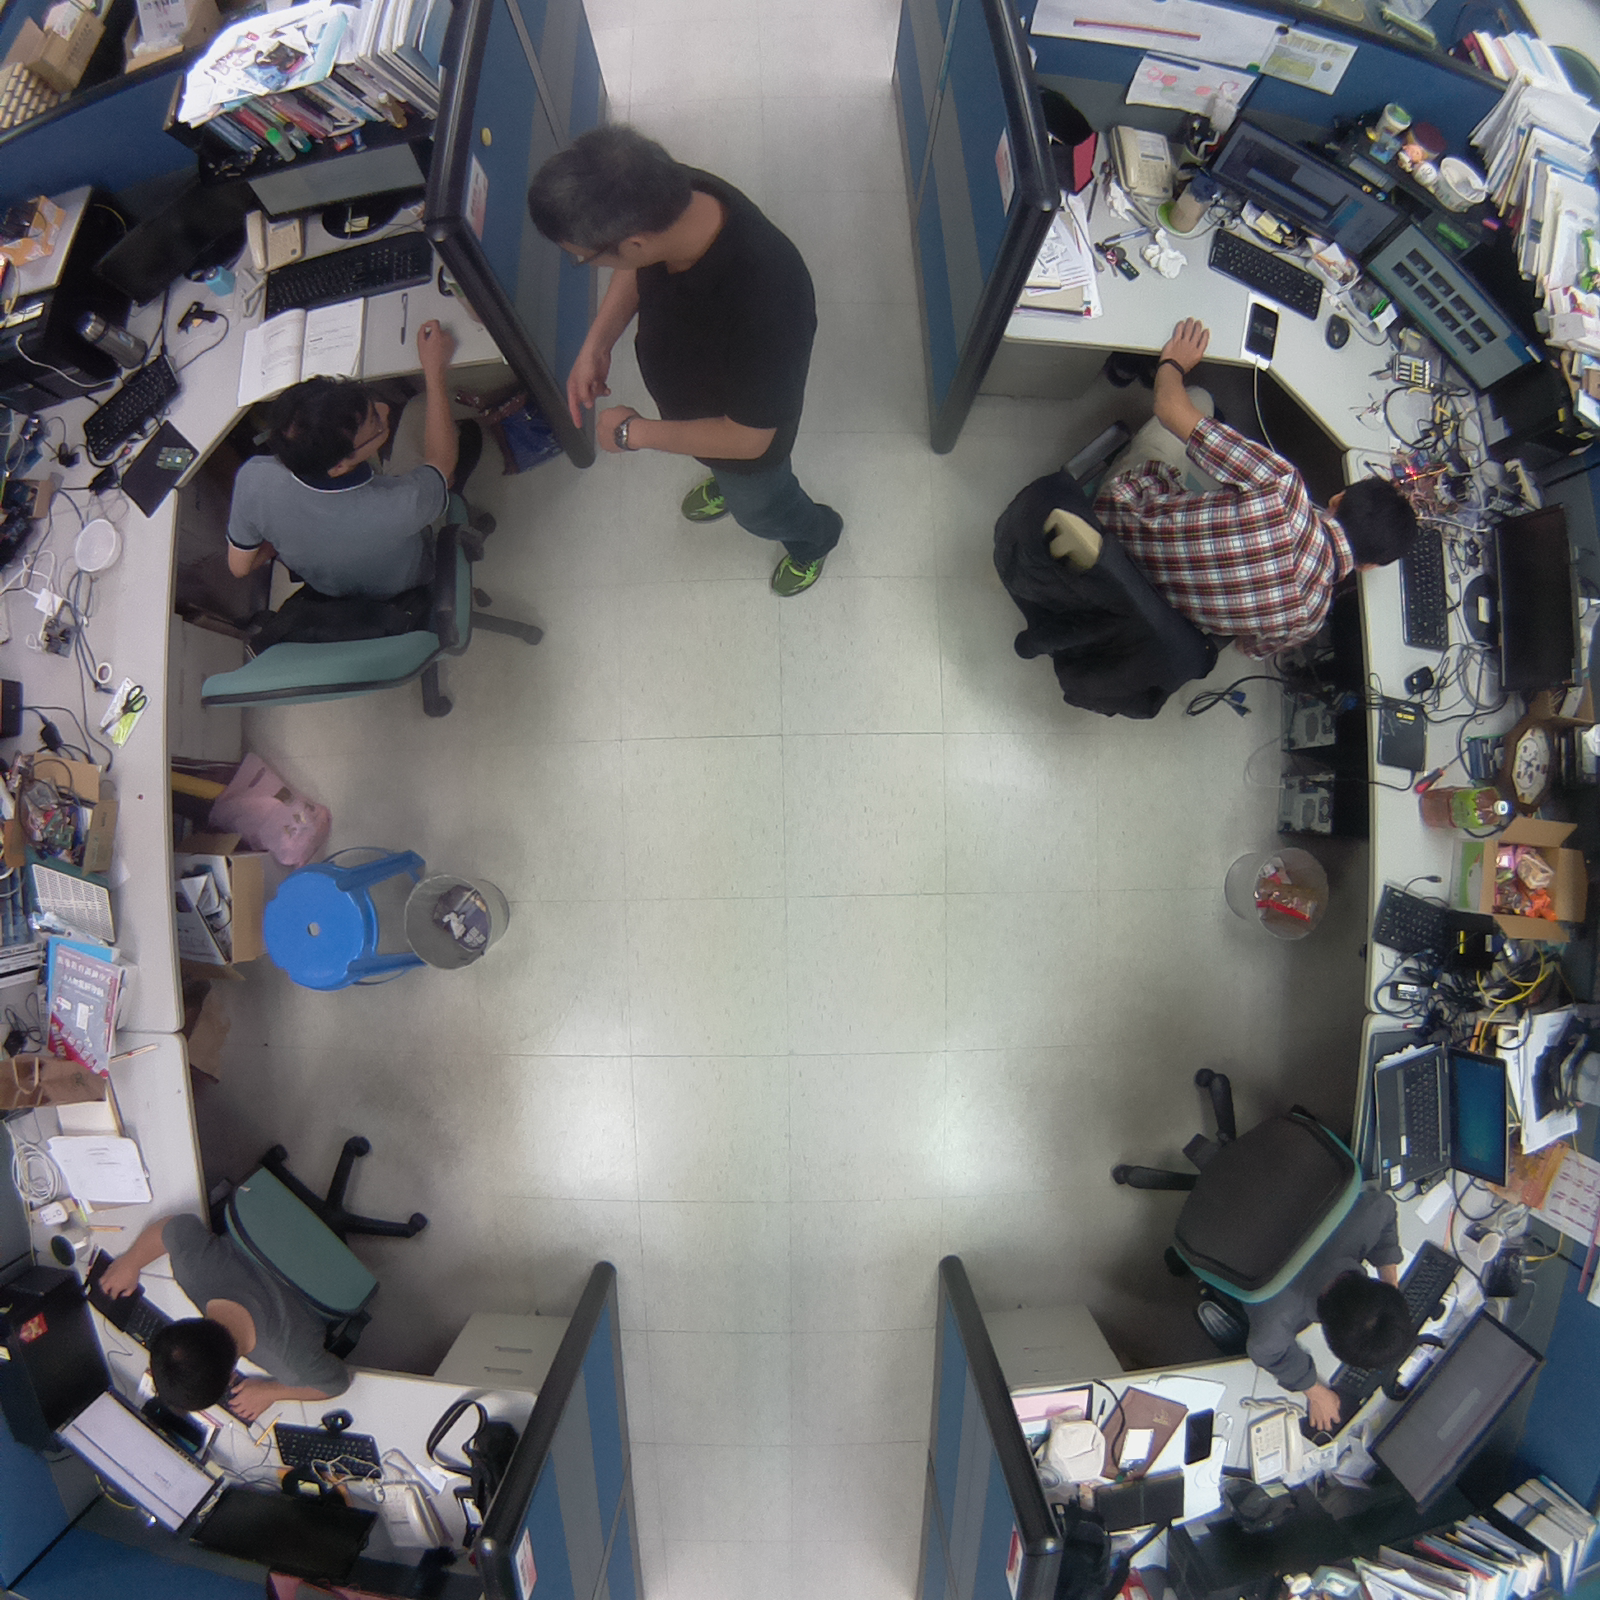head: (518, 122, 691, 272), (260, 372, 401, 478), (1312, 1261, 1426, 1378), (143, 1313, 243, 1422), (1326, 470, 1426, 576)
sitting: (973, 315, 1424, 747), (178, 341, 565, 737), (1083, 1052, 1425, 1438), (85, 1114, 453, 1427)
standing: (518, 123, 856, 604)
